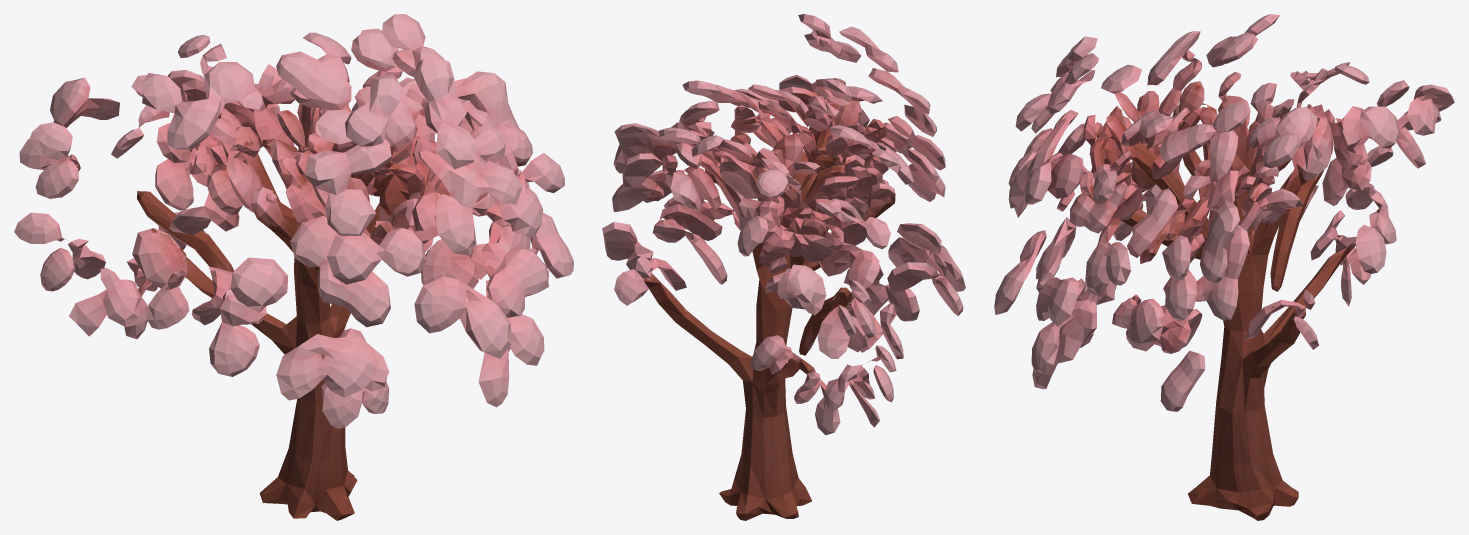
File: pinktree2.obj
3 views of the same model, side by side, from view 1: azimuth 30°, elevation 25°; view 2: azimuth 150°, elevation 25°; view 3: azimuth 270°, elevation 25° (orthographic). The views are drawn at different scales.
Visible parts, largest first — view 1: tripo_node_5462af06-926d-40cd-8cd8-a2dadf7b34ef; view 2: tripo_node_5462af06-926d-40cd-8cd8-a2dadf7b34ef; view 3: tripo_node_5462af06-926d-40cd-8cd8-a2dadf7b34ef.
Part boxes in pixels (x1,y1,x2,y2): tripo_node_5462af06-926d-40cd-8cd8-a2dadf7b34ef: (14, 14, 573, 520); tripo_node_5462af06-926d-40cd-8cd8-a2dadf7b34ef: (602, 14, 965, 520); tripo_node_5462af06-926d-40cd-8cd8-a2dadf7b34ef: (994, 14, 1454, 520).
Size of the model in its own units: 0.9387 by 0.9954 by 0.8974.
